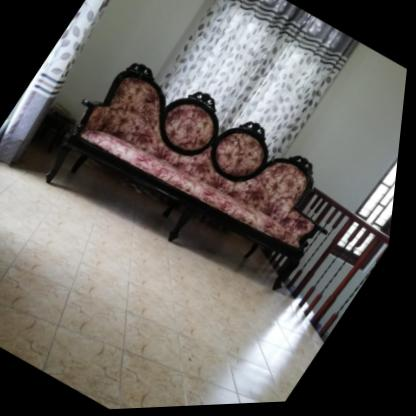Curtains: (0, 162, 331, 411), (162, 0, 361, 164), (0, 0, 109, 166)
Sofa: (22, 36, 379, 325)
